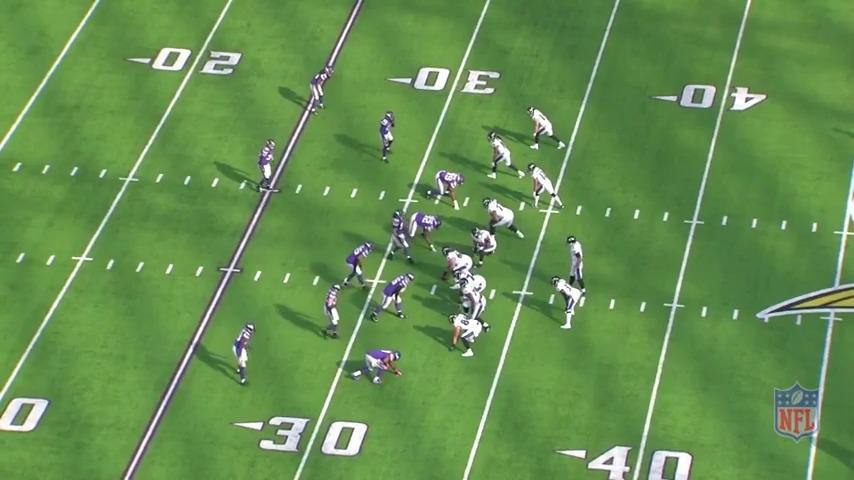player: (350, 347, 403, 389), (526, 104, 568, 155), (370, 270, 412, 321), (485, 129, 525, 182), (529, 162, 567, 213), (551, 274, 582, 333), (384, 209, 417, 264), (483, 197, 525, 240), (458, 281, 491, 335), (424, 168, 466, 210), (340, 240, 374, 291), (235, 322, 260, 390), (449, 313, 484, 361), (307, 62, 338, 116), (255, 136, 281, 196), (563, 233, 588, 295), (403, 211, 444, 247), (444, 244, 477, 285), (323, 281, 345, 342), (470, 226, 499, 267), (377, 109, 398, 165), (453, 269, 490, 300)
